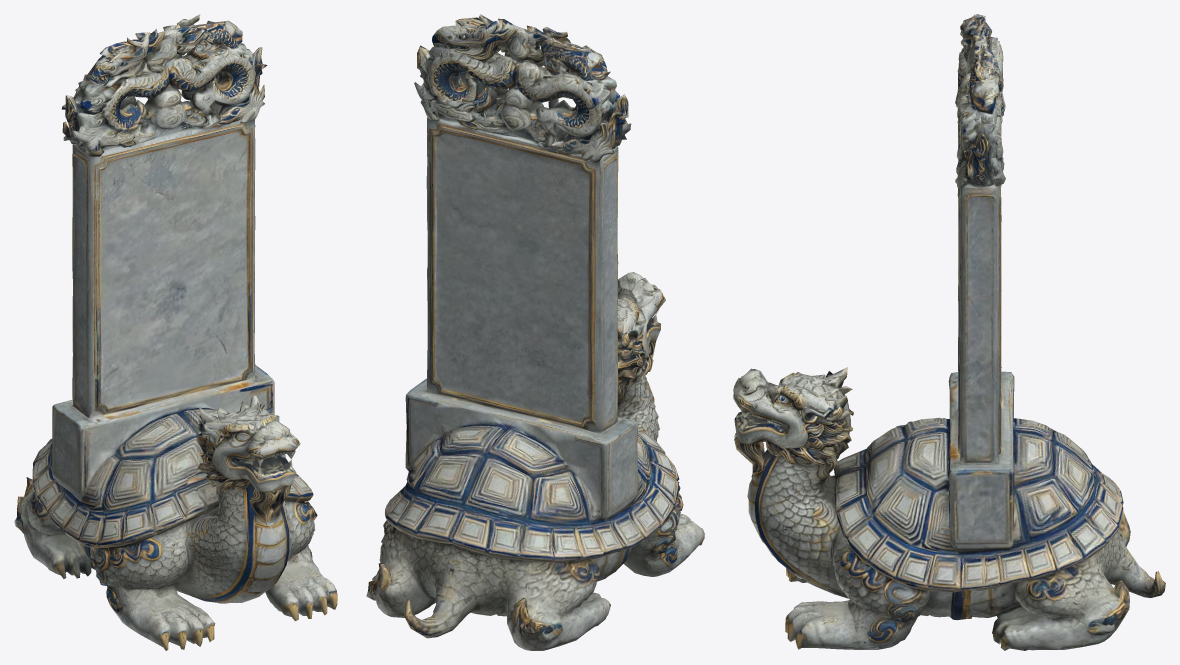
Rendered from stele_turtle.glb.
The picture shows the model from 3 angles, left to right: view 1: azimuth 30°, elevation 25°; view 2: azimuth 150°, elevation 25°; view 3: azimuth 270°, elevation 25°; orthographic projection. The views are drawn at different scales.
Parts seen in each view (by area): view 1: tripo_node_e7cd827e-07eb-4bc3-9b77-e547b00271a1; view 2: tripo_node_e7cd827e-07eb-4bc3-9b77-e547b00271a1; view 3: tripo_node_e7cd827e-07eb-4bc3-9b77-e547b00271a1.
Part boxes in pixels (left/top/right/bottom): tripo_node_e7cd827e-07eb-4bc3-9b77-e547b00271a1: left=14, top=14, right=337, bottom=650; tripo_node_e7cd827e-07eb-4bc3-9b77-e547b00271a1: left=366, top=14, right=704, bottom=650; tripo_node_e7cd827e-07eb-4bc3-9b77-e547b00271a1: left=733, top=14, right=1165, bottom=650.
Bounding box in the file's own units: 0.422 × 1 × 0.6855.
1 material, 1 textured.
